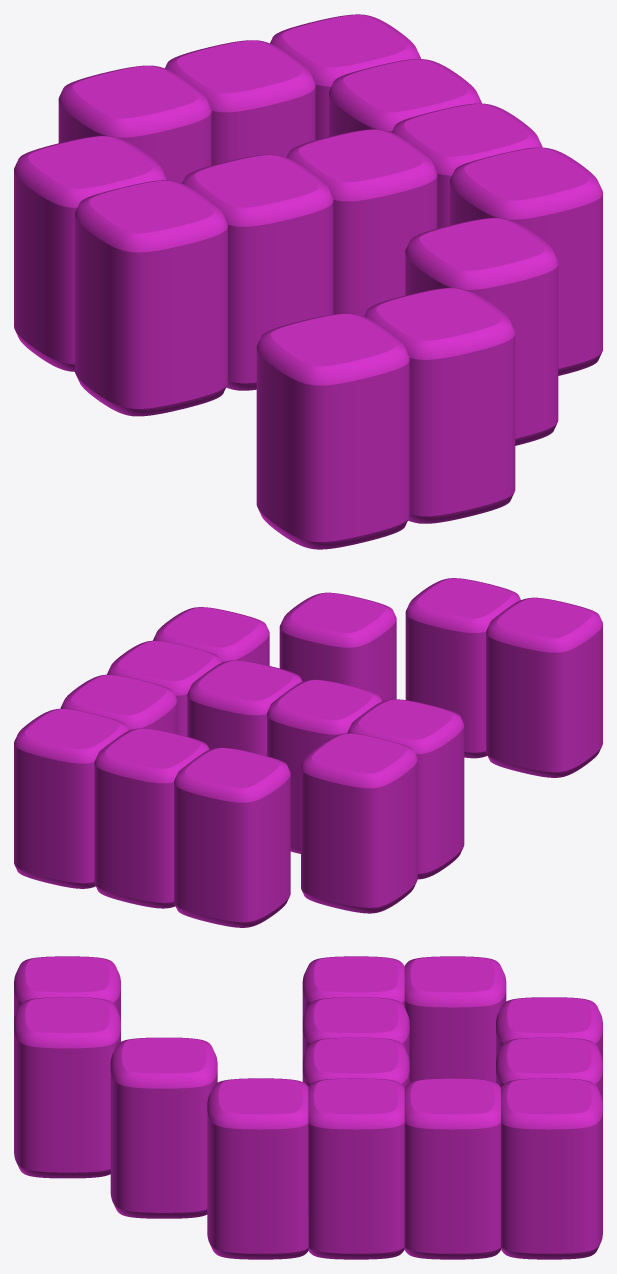
File: Number_6.fbx
The picture shows the model from 3 angles, top to bottom: view 1: azimuth 30°, elevation 25°; view 2: azimuth 150°, elevation 25°; view 3: azimuth 270°, elevation 25°; orthographic projection. The views are drawn at different scales.
Parts seen in each view (by area): view 1: Number_6; view 2: Number_6; view 3: Number_6.
Part boxes in pixels (left/top/right/bottom): Number_6: left=14, top=14, right=602, bottom=549; Number_6: left=14, top=578, right=602, bottom=927; Number_6: left=14, top=956, right=602, bottom=1259.
Bounding box in the file's own units: 0.3465 × 0.14 × 0.5157.
